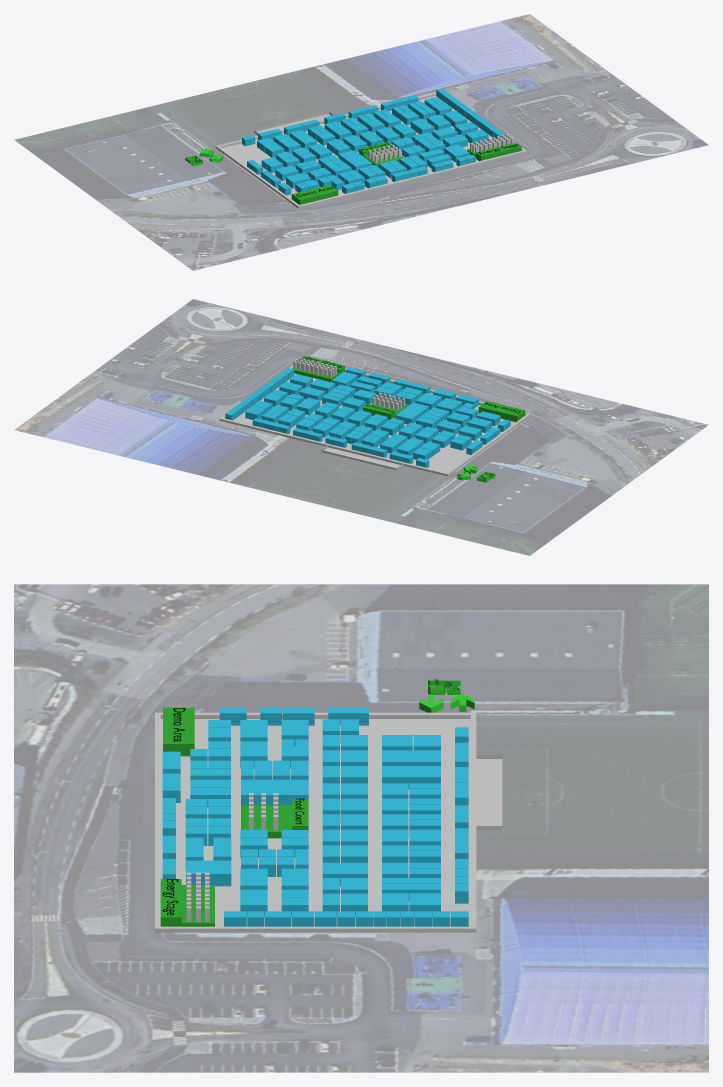
File: MainExhibitionHall.glb
3 renders of one model, top to bottom at view 1: azimuth 30°, elevation 25°; view 2: azimuth 150°, elevation 25°; view 3: azimuth 270°, elevation 25°, orthographic. The views are drawn at different scales.
Parts seen in each view (by area): view 1: Plane, Logistikk porter_curve_, Logistikk porter_curve_.001, Demo_Area.B-1600, Energy_stage.B-1350, BOOTHLAYER_curve_.B-4040; view 2: Plane, Logistikk porter_curve_.001, Logistikk porter_curve_, Demo_Area.B-1600, Energy_stage.B-1350, BOOTHLAYER_curve_.B-4040; view 3: Plane, Logistikk porter_curve_.001, Logistikk porter_curve_, Energy_stage.B-1350, Food_Court.B-4050, BOOTHLAYER_curve_.B-4040, Demo_Area.B-1600, Emergency Exit_curve_.002, BOOTHLAYER_curve_.B-2035, BOOTHLAYER_curve_.B-5100, BOOTHLAYER_curve_.B-2025.
Boxes of the visible parts, box(x1,y1,x2,y2) form: Plane: box(14, 14, 708, 270); Logistikk porter_curve_: box(215, 92, 526, 208); Logistikk porter_curve_.001: box(222, 96, 492, 198); Demo_Area.B-1600: box(291, 185, 338, 204); Energy_stage.B-1350: box(467, 142, 521, 161); BOOTHLAYER_curve_.B-4040: box(338, 150, 372, 172); Plane: box(14, 299, 708, 555); Logistikk porter_curve_.001: box(233, 373, 515, 472); Logistikk porter_curve_: box(219, 365, 530, 476); Demo_Area.B-1600: box(478, 401, 525, 422); Energy_stage.B-1350: box(292, 356, 344, 382); BOOTHLAYER_curve_.B-4040: box(395, 402, 428, 424); Plane: box(14, 584, 708, 1072); Logistikk porter_curve_.001: box(160, 719, 502, 926); Logistikk porter_curve_: box(155, 712, 502, 932); Energy_stage.B-1350: box(160, 879, 214, 926); Food_Court.B-4050: box(241, 799, 308, 838); BOOTHLAYER_curve_.B-4040: box(241, 779, 308, 805); Demo_Area.B-1600: box(163, 707, 194, 756); Emergency Exit_curve_.002: box(419, 679, 474, 712); BOOTHLAYER_curve_.B-2035: box(382, 766, 440, 789); BOOTHLAYER_curve_.B-5100: box(186, 860, 231, 886); BOOTHLAYER_curve_.B-2025: box(382, 750, 440, 765).
Size of the model in its own units: 255 by 5.26 by 154.
Materials: 8 (1 with a texture image).
